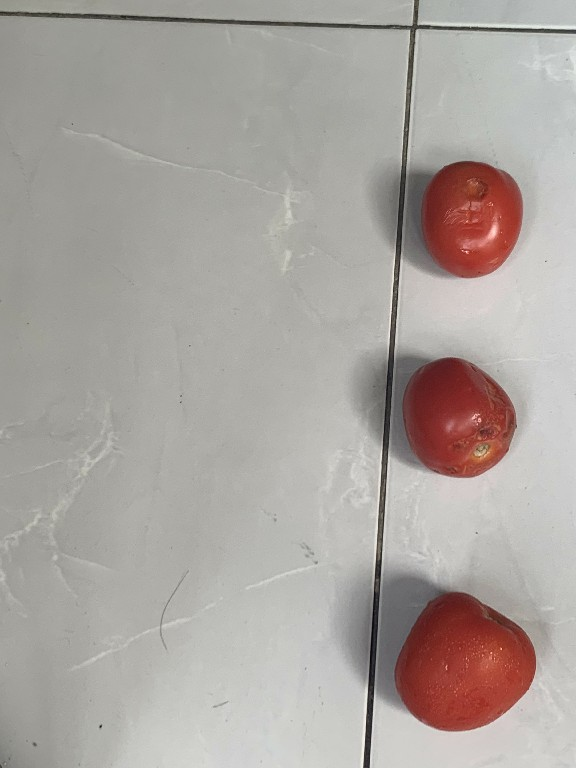NG: (397, 350, 524, 482), (422, 155, 525, 280)
OK: (396, 585, 534, 736)
